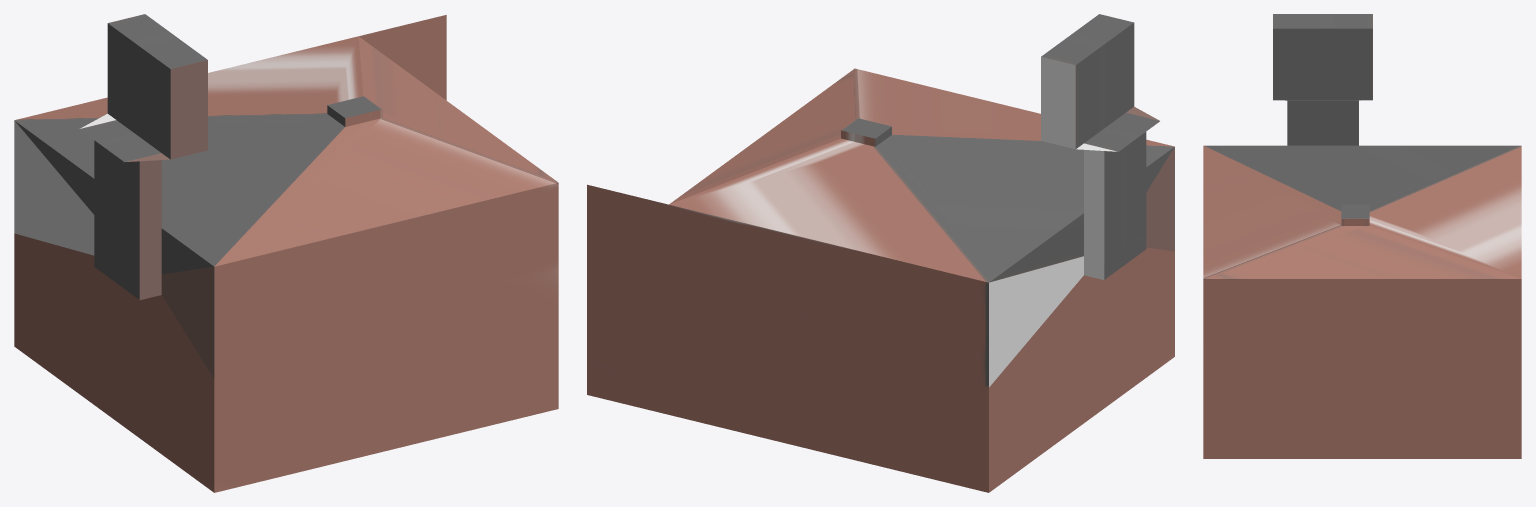
Rendered from ScannerPart.fbx.
3 renders of one model, left to right at view 1: azimuth 30°, elevation 25°; view 2: azimuth 150°, elevation 25°; view 3: azimuth 270°, elevation 25°, orthographic. The views are drawn at different scales.
Visible parts, largest first — view 1: Cube; view 2: Cube; view 3: Cube.
Part boxes in pixels (x1,y1,x2,y2): Cube: [14, 14, 558, 492]; Cube: [587, 14, 1174, 492]; Cube: [1203, 14, 1521, 458].
Size of the model in its own units: 434 by 346 by 321.
1 material, 1 textured.
